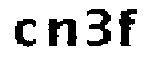3: (83, 5, 113, 50)
c: (11, 17, 38, 50)
f: (117, 8, 141, 54)
n: (44, 16, 79, 51)
